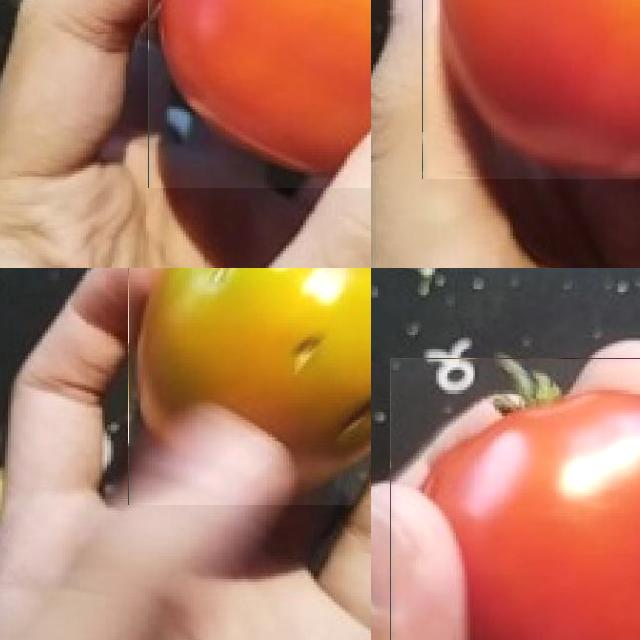Fresh Tomato: (390, 358, 640, 640), (147, 0, 371, 188), (422, 0, 640, 179)
Rotten Tomato: (128, 268, 371, 505)
